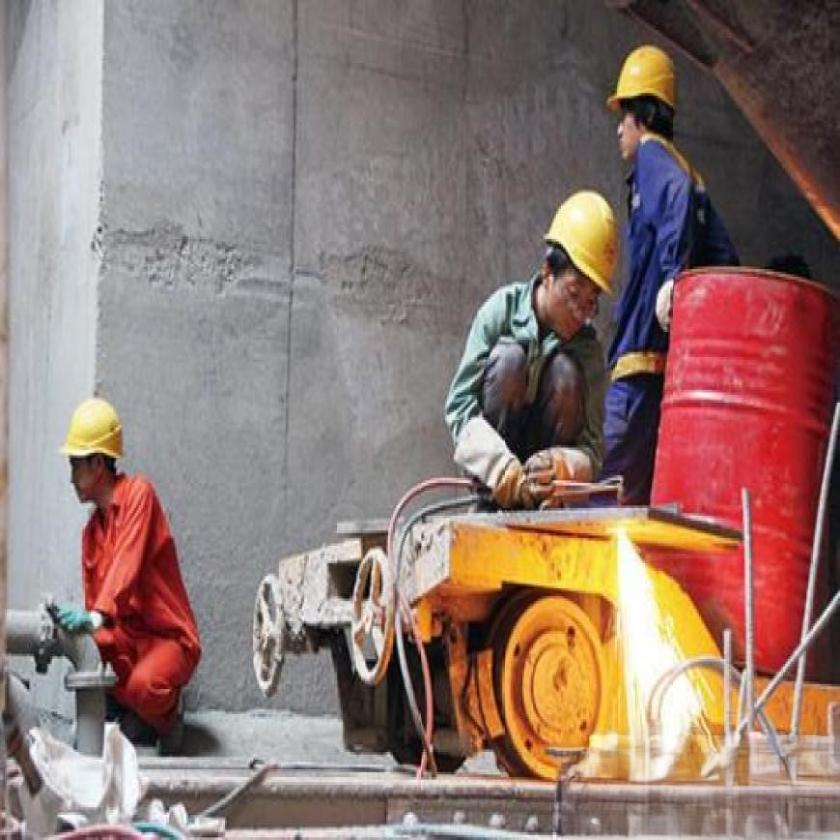Con_casco: (534, 187, 621, 342), (603, 43, 677, 159), (62, 399, 123, 505)
